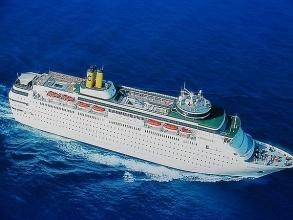youlun: (7, 64, 293, 178)
